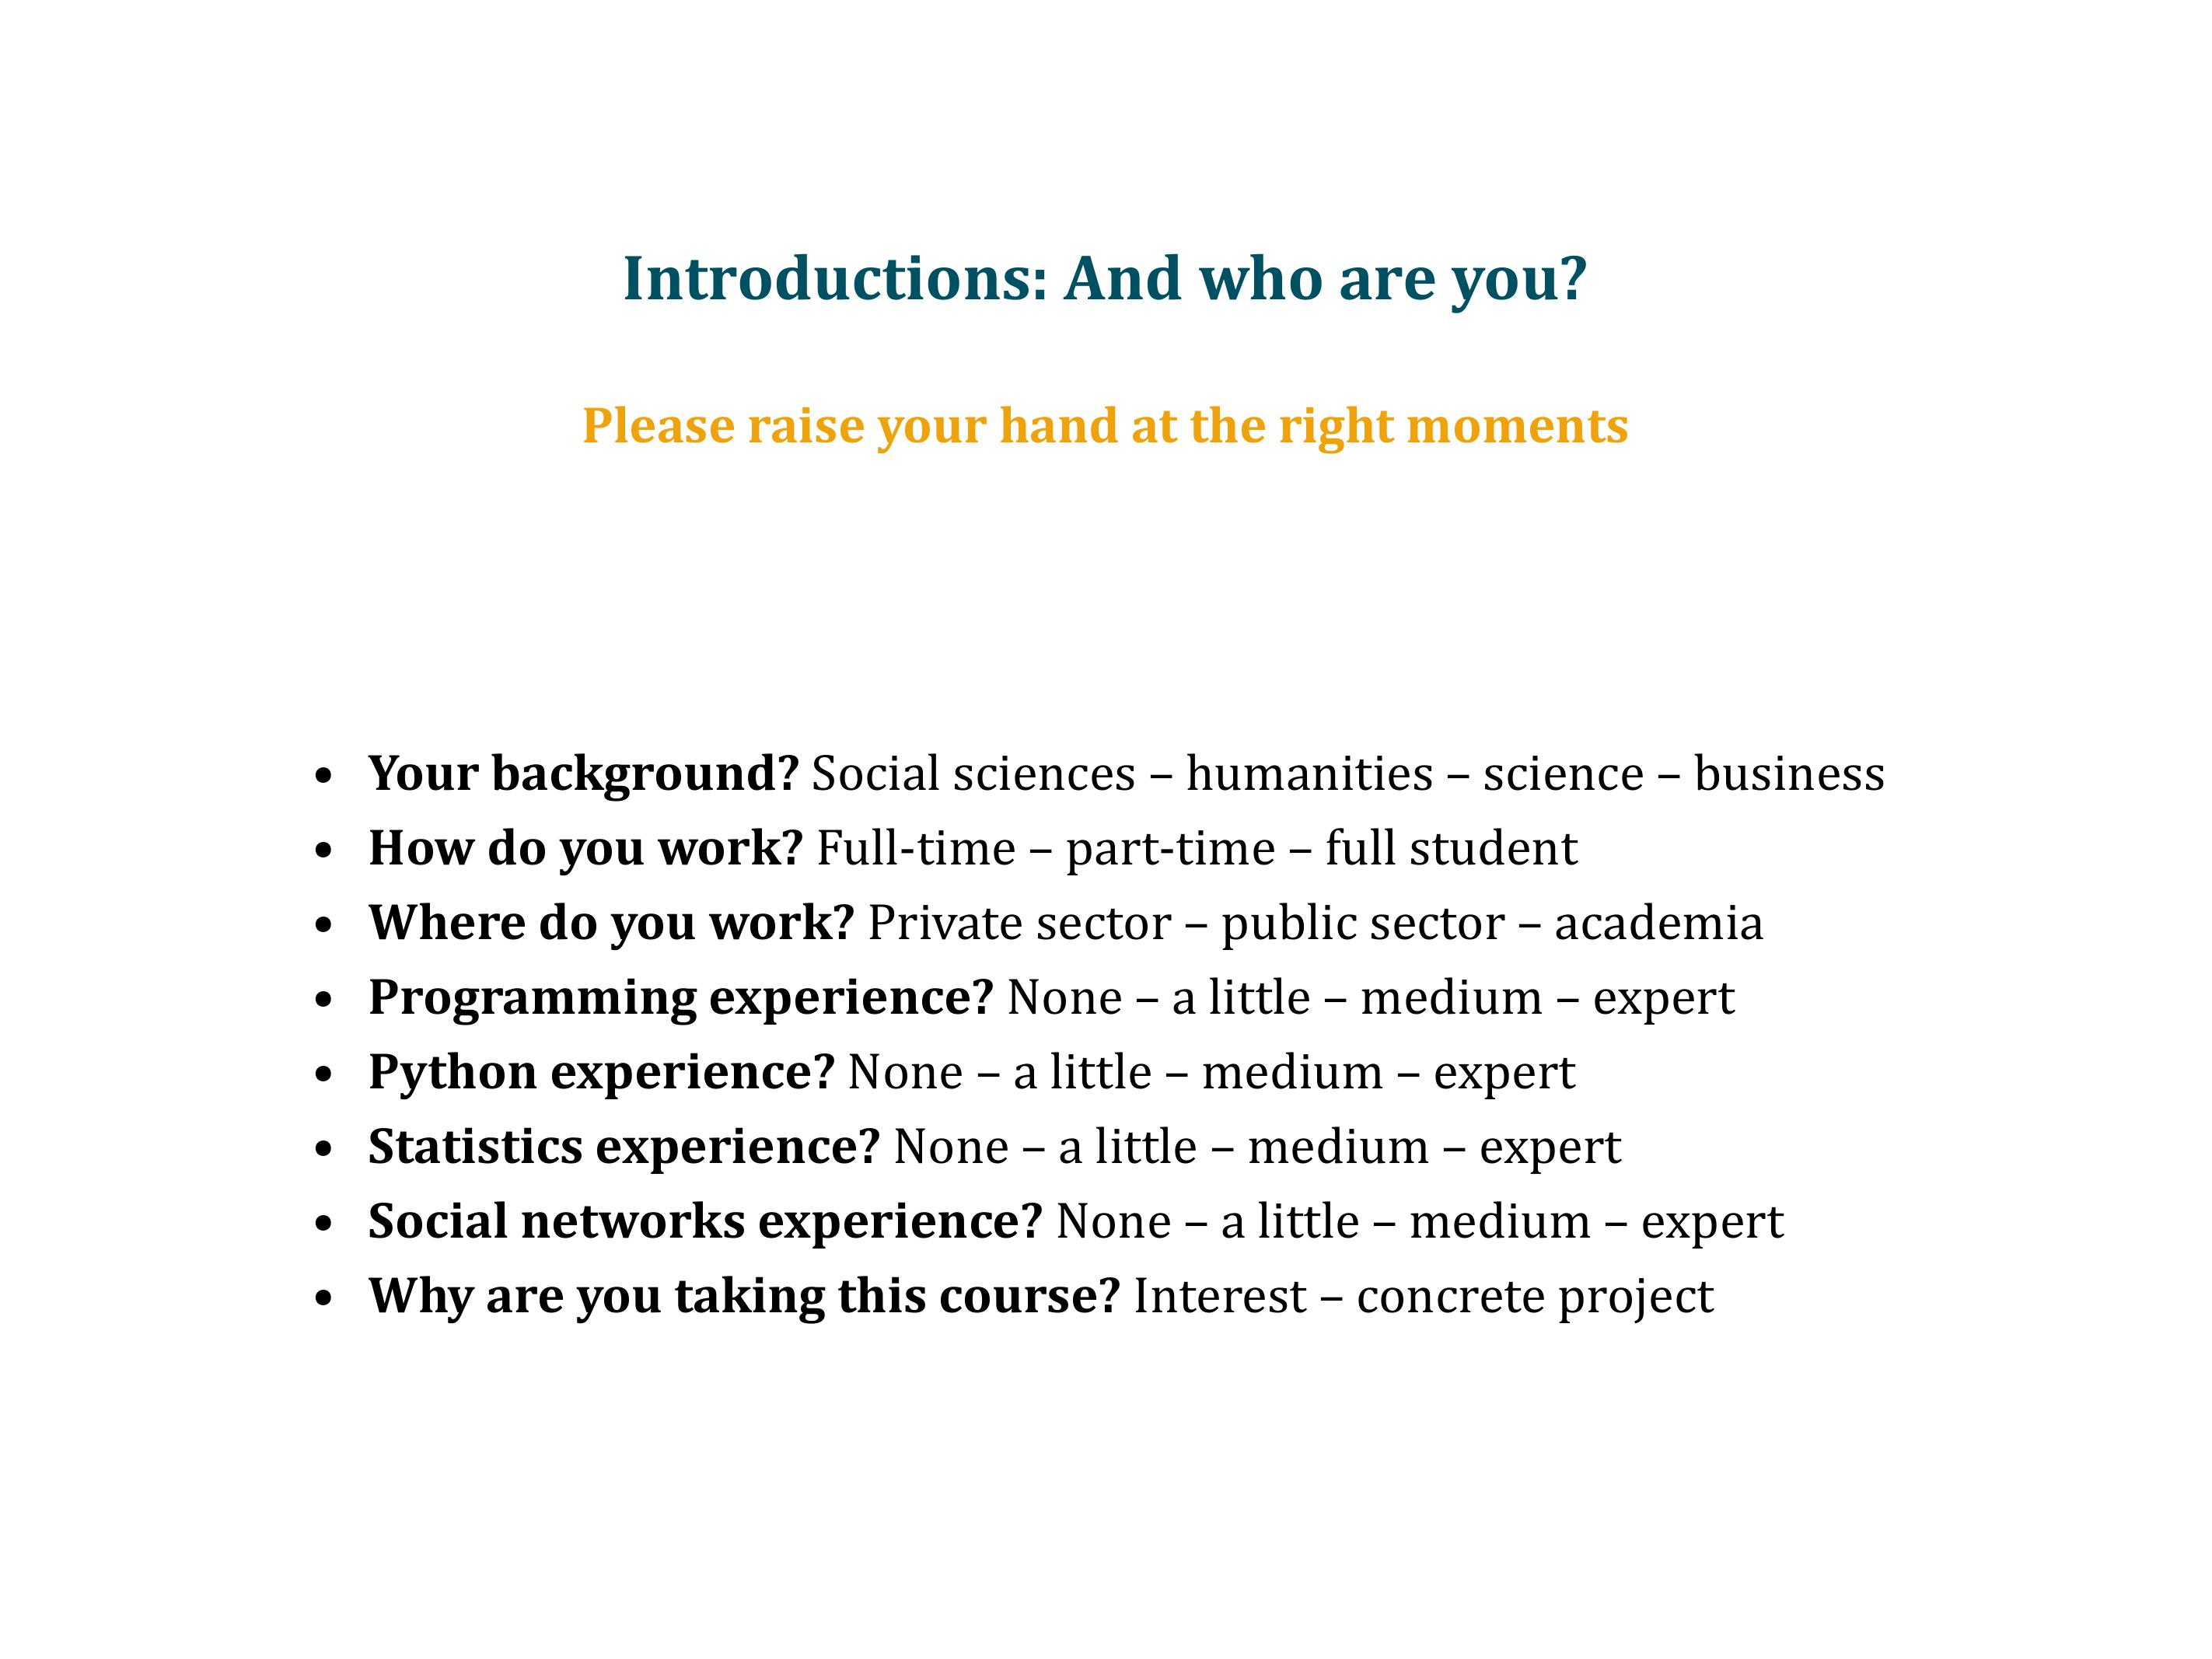Title: (605, 239, 1609, 322)
